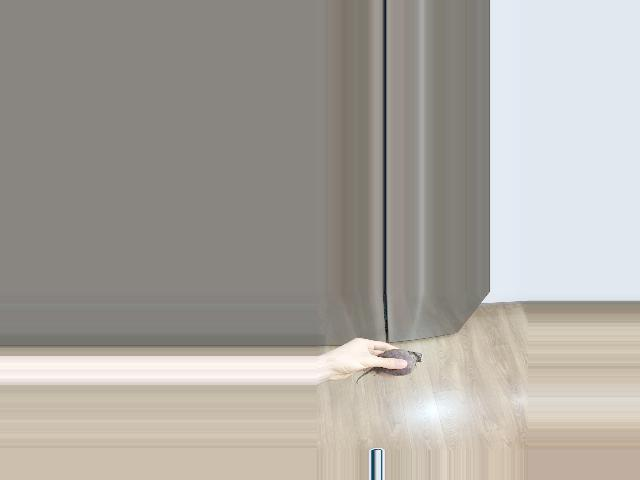beet: (357, 349, 422, 384)
